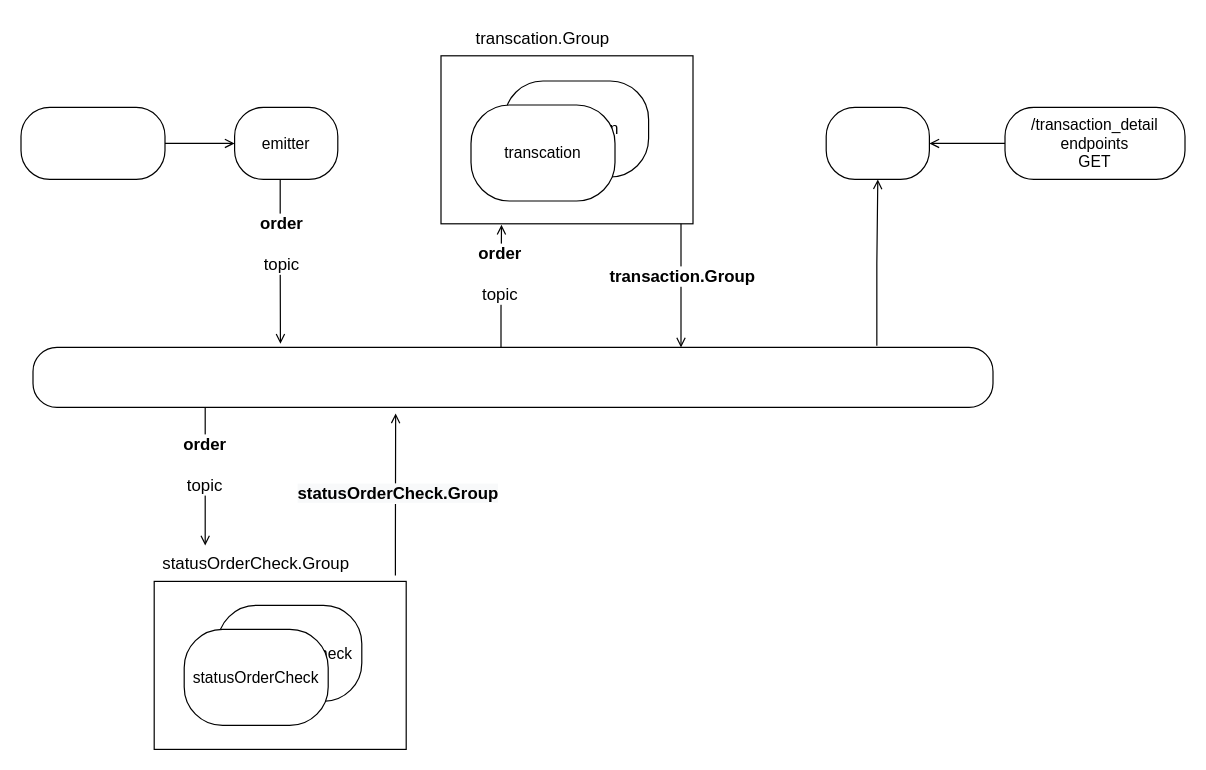
This 1206x770 diagram has some shape labels left out. The shapes that lost their labels are listed below. From the top down, each one's centre as x and y in pixels, then its label:
the point at 92,142: /order endpoints POST
the point at 877,142: transaction view
the point at 512,376: Apache Kafka
